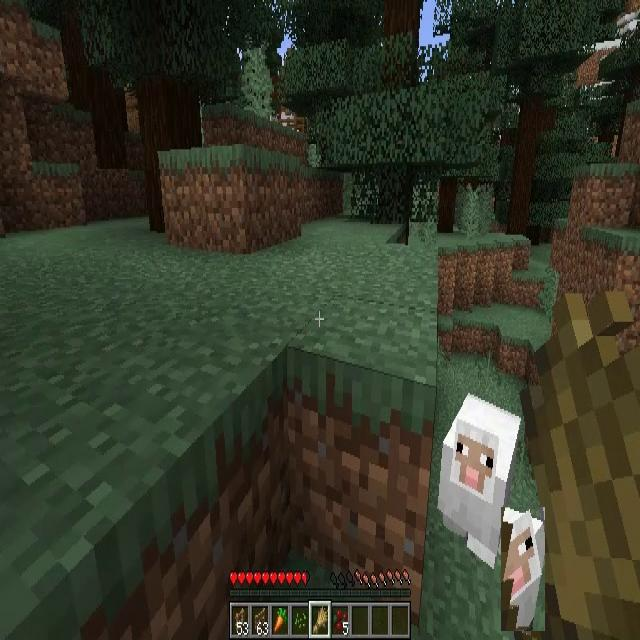sheep: (440, 392, 522, 567), (501, 508, 545, 632)
